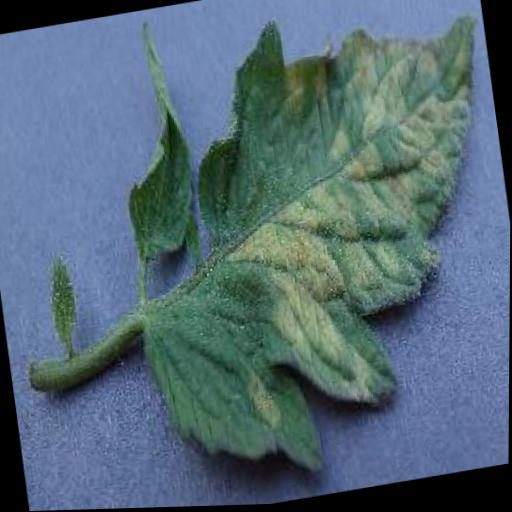Leaf Mold: (97, 0, 512, 502)
